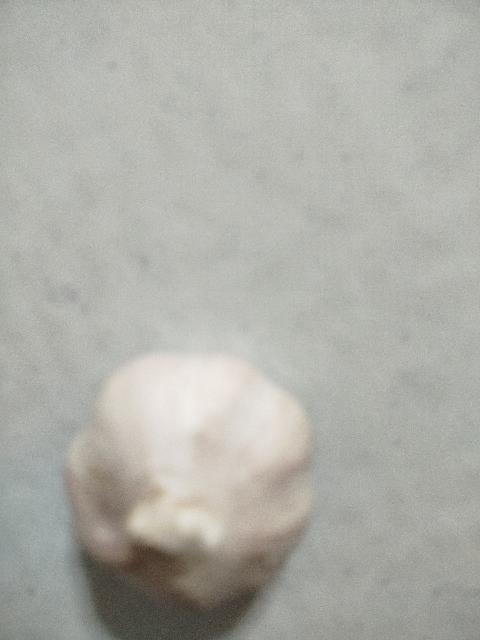garlic: (64, 348, 314, 630)
